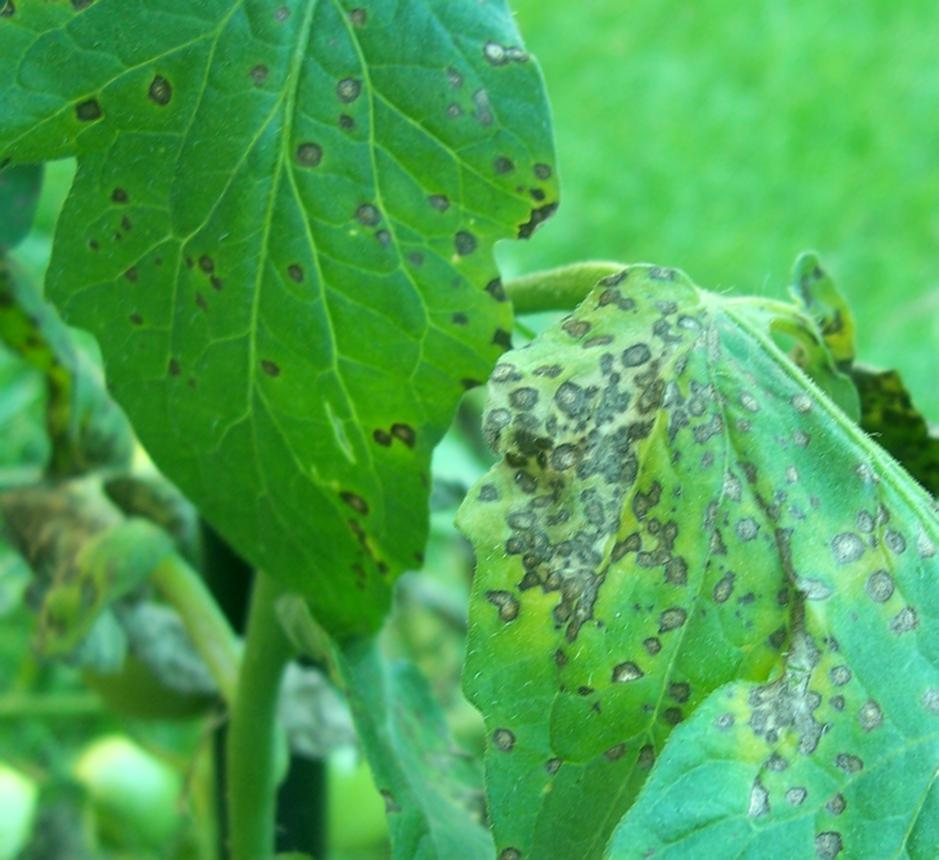Tomato Septoria leaf spot: (0, 0, 590, 667), (483, 257, 939, 860)
